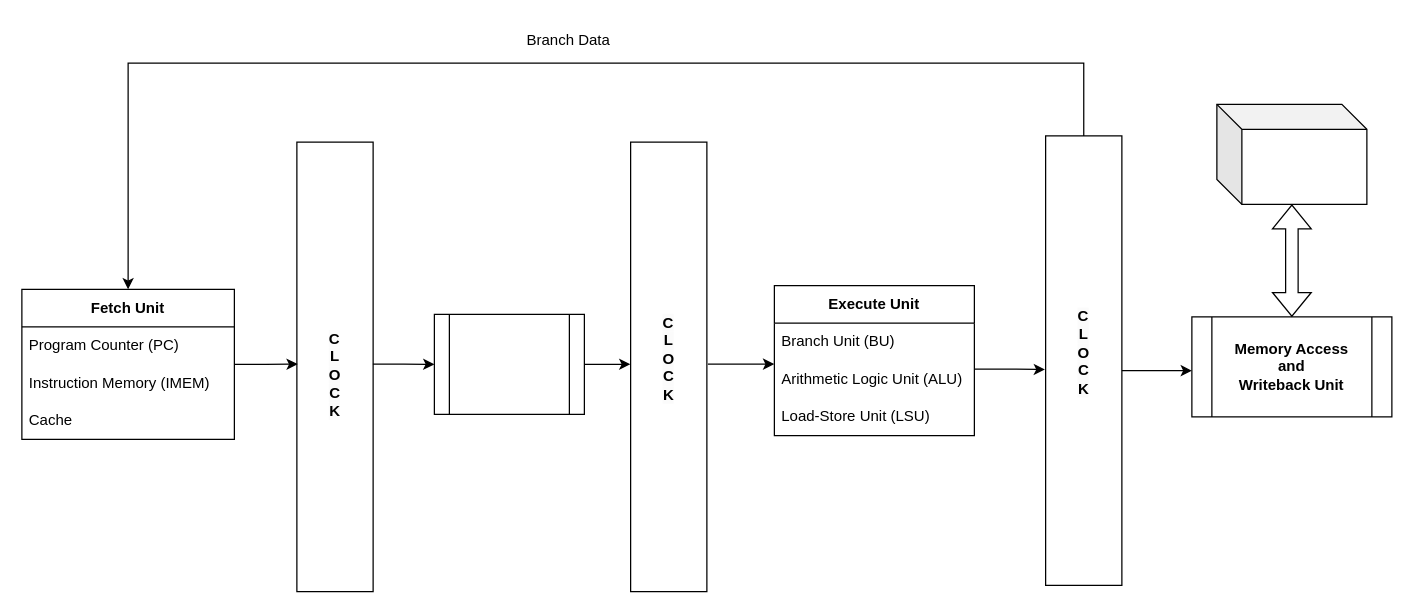
Image size: 1414x614. Some labels were removed from this diagram. The centre of each missing label's shape, as x and y in pixels:
Decode Unit: (x=508, y=363)
Register File: (x=1291, y=153)
